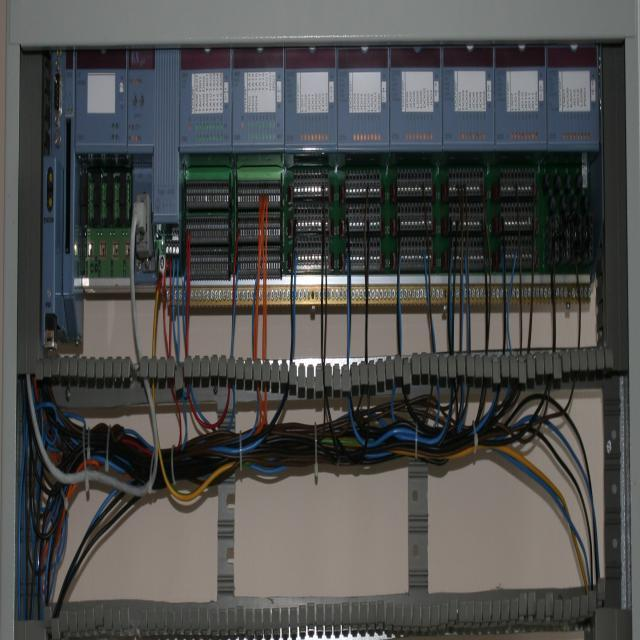SPS_System_Steuerungskomponente: (127, 47, 180, 221), (179, 45, 232, 152), (232, 44, 285, 151), (389, 46, 442, 150), (442, 45, 495, 149), (546, 44, 598, 150), (494, 44, 547, 147), (285, 46, 337, 150), (337, 46, 389, 147), (75, 51, 128, 150)
